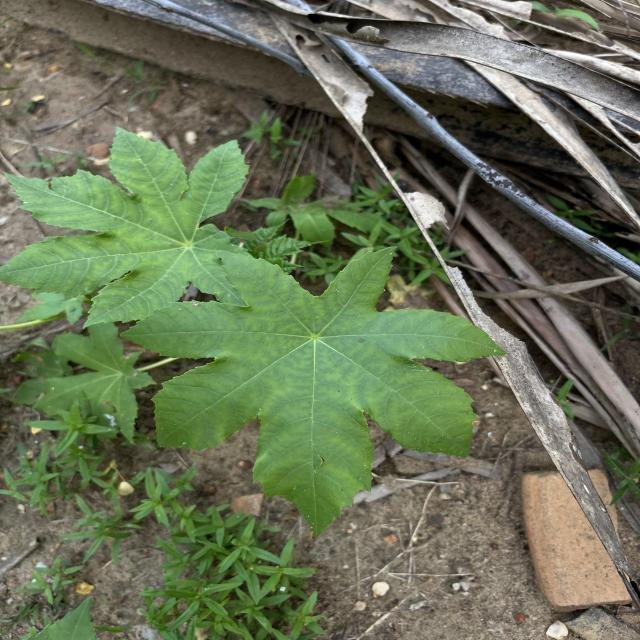Ricinus communis linn: (115, 242, 511, 542), (0, 124, 275, 334)
